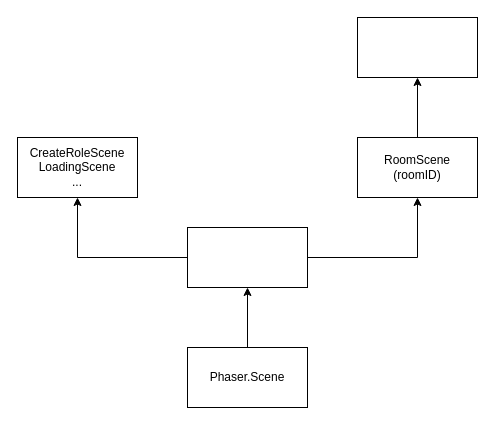
Image size: 495x425. Some labels were removed from this diagram. The box of each missing label's shape, as (x1, y1, x2, y2) in pixels:
BasicScene: (186, 226, 308, 288)
PlayScene (only one of room): (356, 16, 478, 78)
